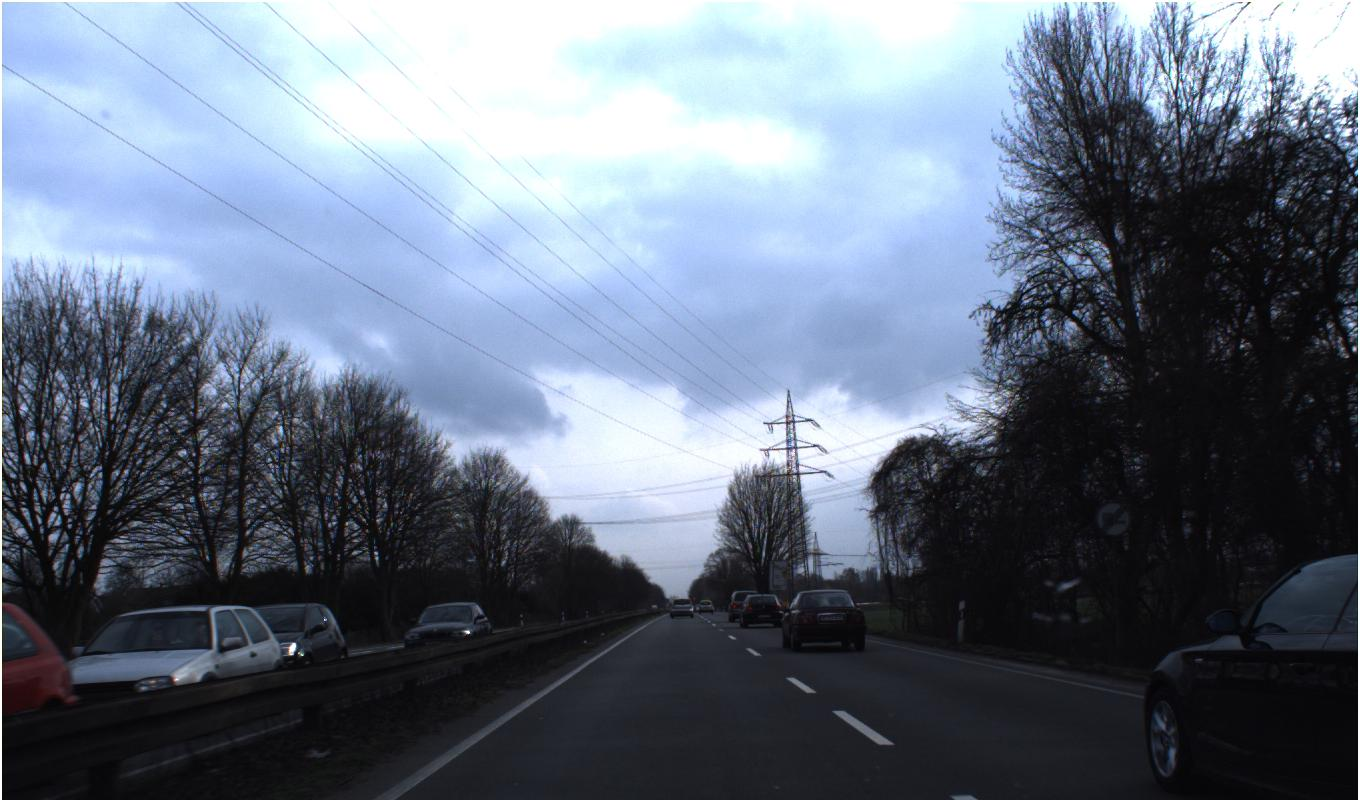sign: (1094, 500, 1132, 538)
